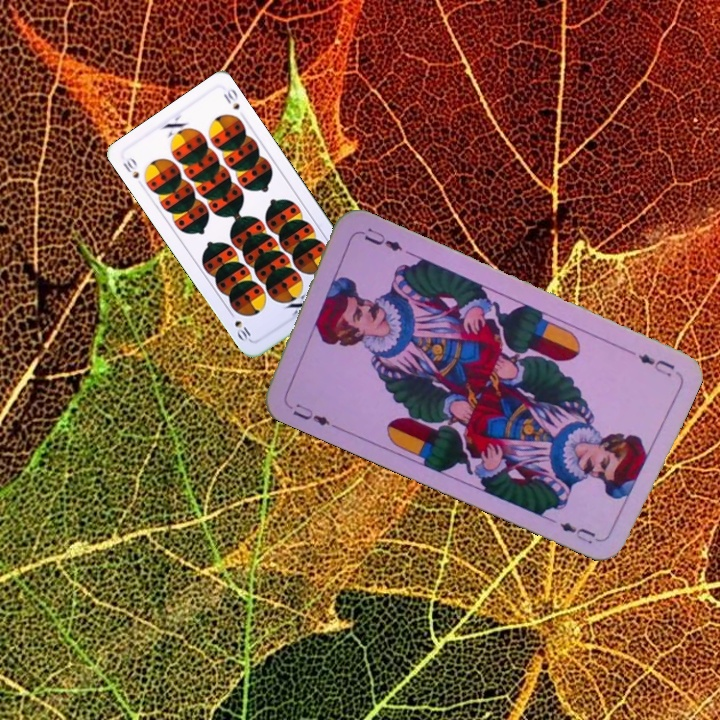EU: (282, 398, 337, 430), (634, 349, 677, 380)
S10: (119, 154, 142, 182)
